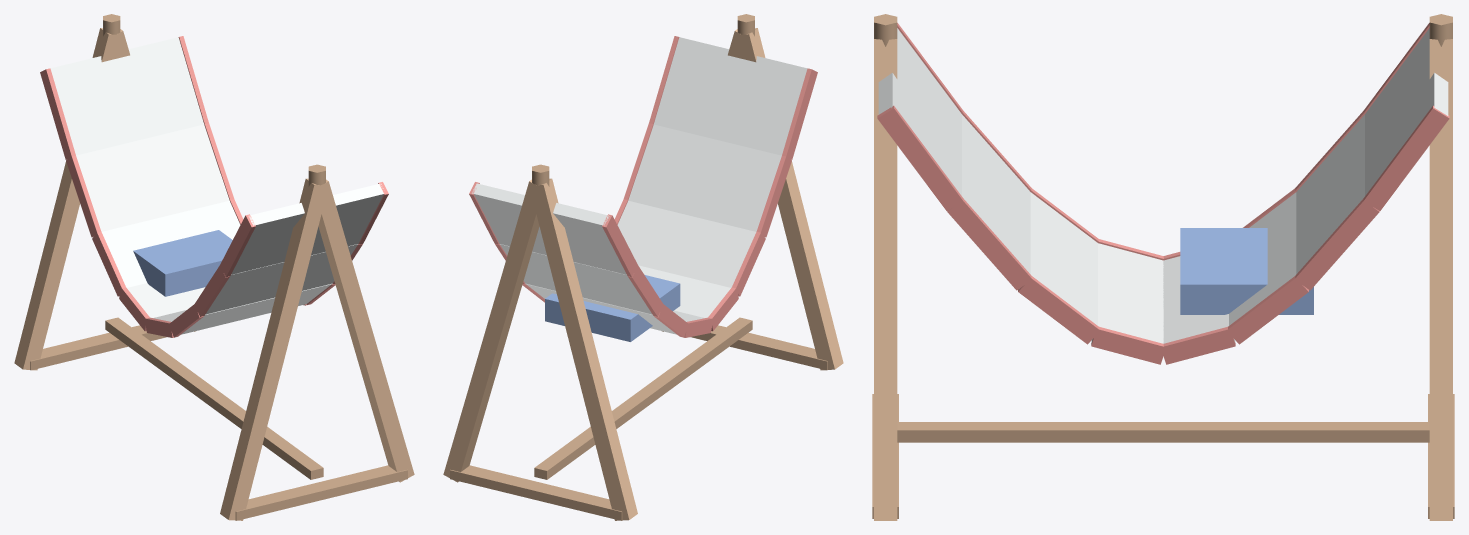
Rendered from bedHammock.glb.
3 views of the same model, side by side, from view 1: azimuth 30°, elevation 25°; view 2: azimuth 150°, elevation 25°; view 3: azimuth 270°, elevation 25° (orthographic). The views are drawn at different scales.
Parts seen in each view (by area): view 1: bedHammock; view 2: bedHammock; view 3: bedHammock.
Boxes of the visible parts, x1,y1,x2,y2 form: bedHammock: [14, 14, 414, 520]; bedHammock: [443, 14, 843, 520]; bedHammock: [872, 14, 1454, 520].
Size of the model in its own units: 0.4337 by 0.7348 by 0.87.
